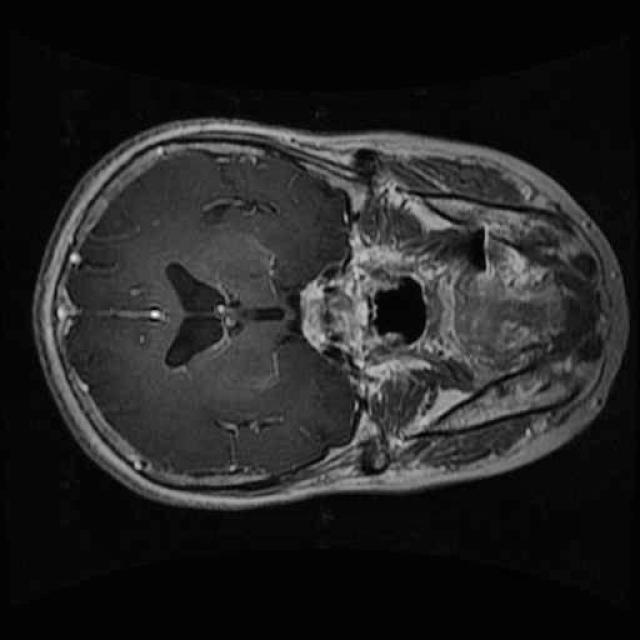Tumor: (184, 187, 290, 237)
